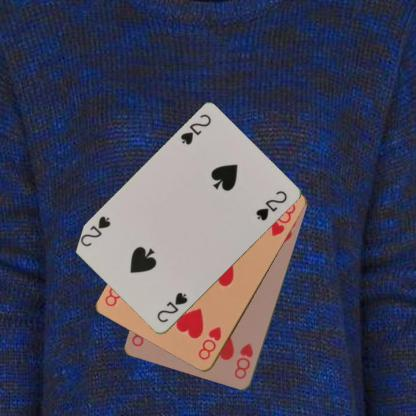2s: (154, 289, 189, 324), (178, 112, 213, 146)
8h: (195, 324, 224, 362), (232, 341, 254, 381)
